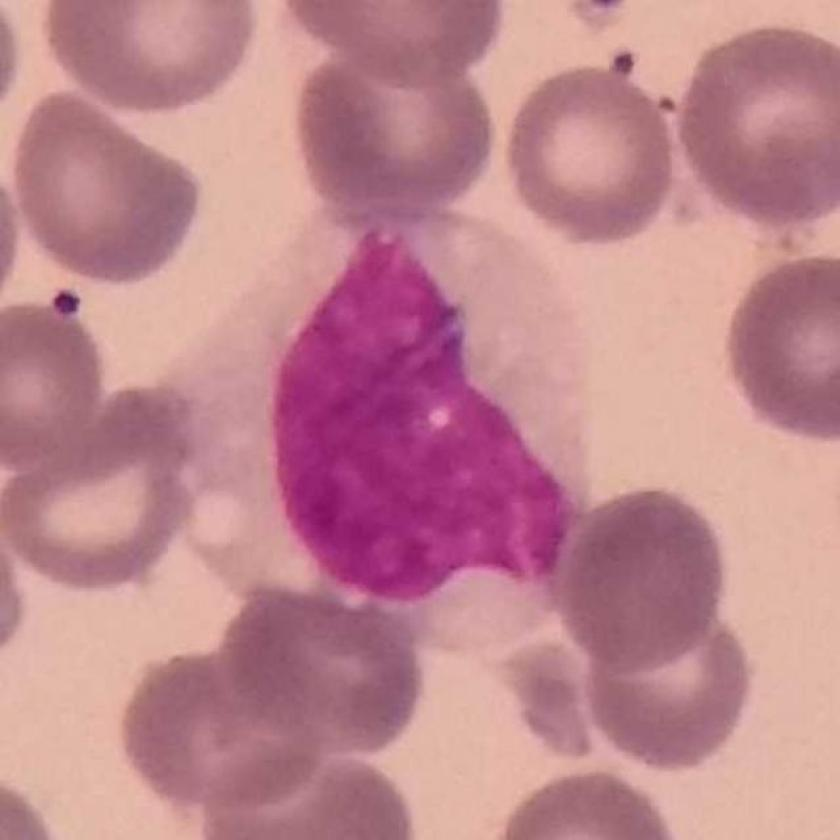monocyte: (148, 207, 601, 664)
